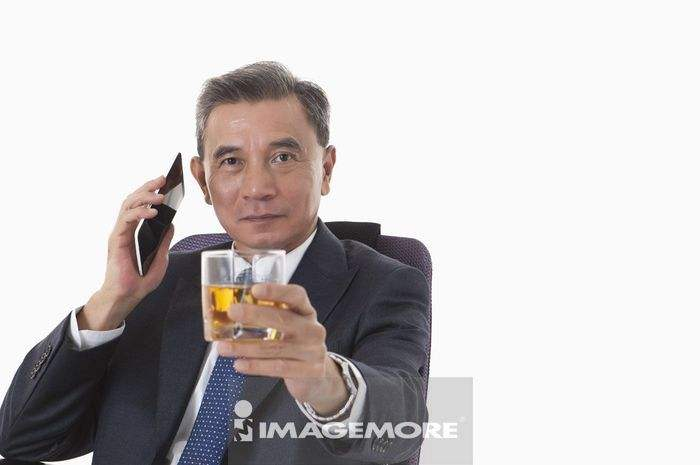phone: (133, 149, 186, 277)
talk: (100, 127, 317, 302)
